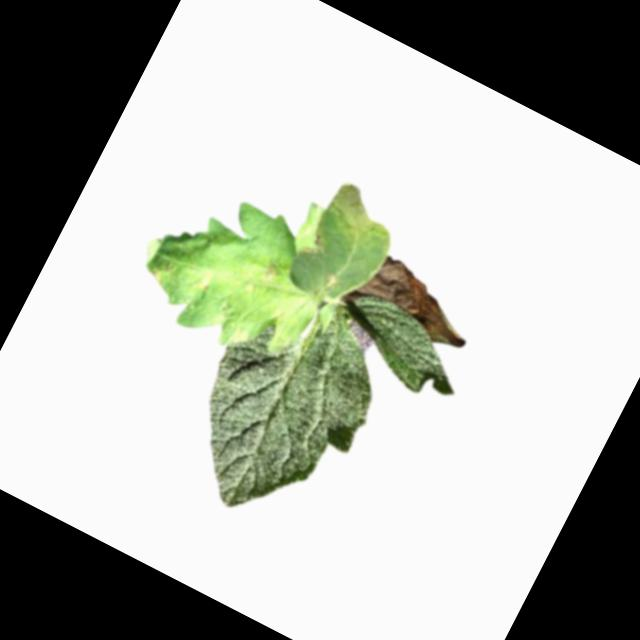Late_blight: (349, 247, 483, 353), (322, 178, 405, 249), (141, 253, 179, 291), (248, 253, 286, 291), (298, 225, 332, 260), (188, 268, 218, 301), (315, 266, 340, 295)
healthy: (159, 269, 406, 545), (318, 282, 478, 408)
